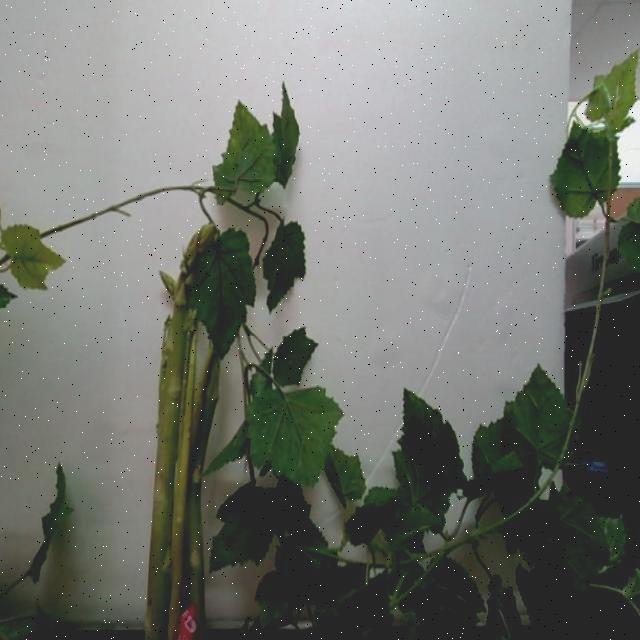aspargus: (142, 223, 214, 640)
